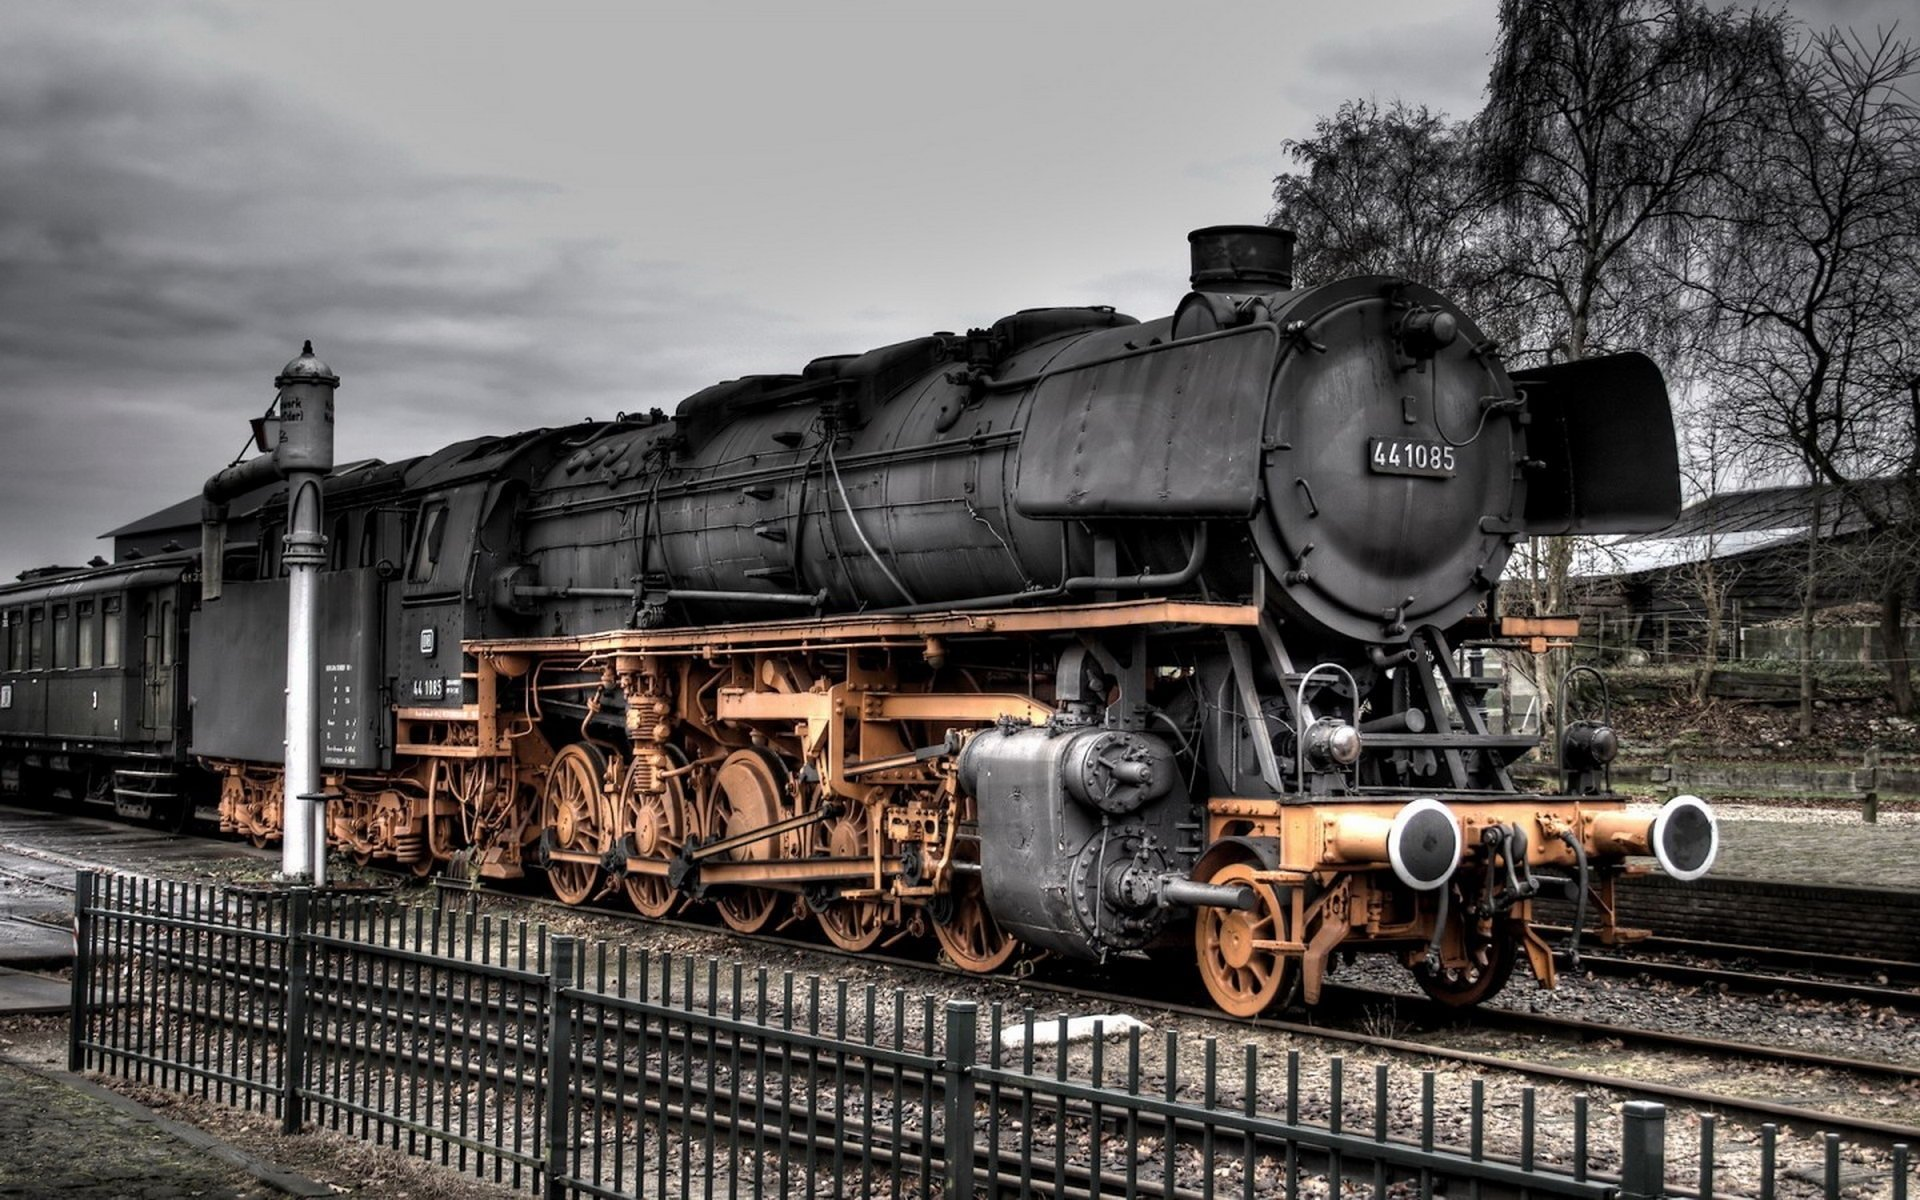train: (1, 225, 1721, 1027)
